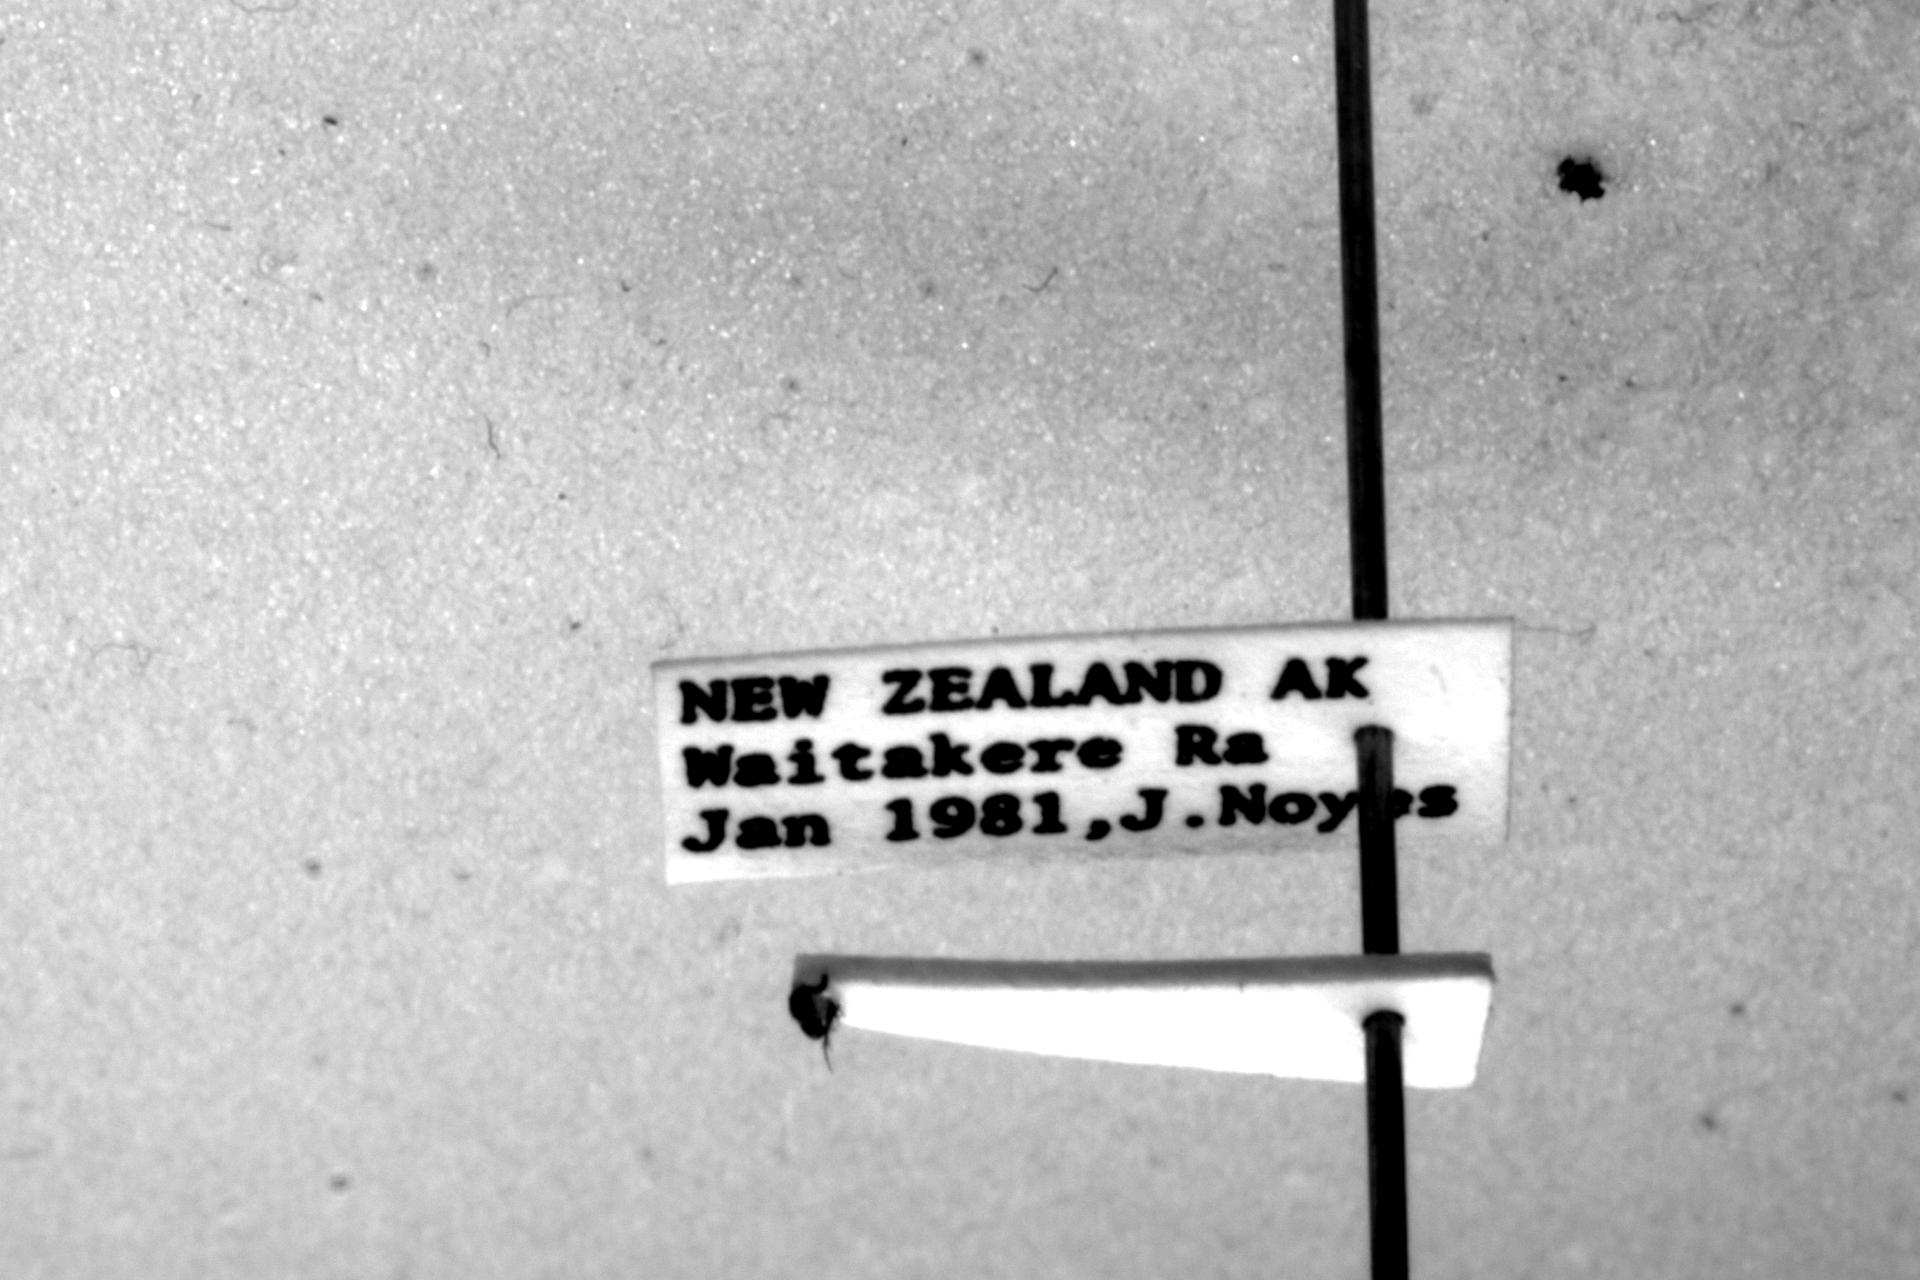typed_label: (656, 619, 1511, 885)
